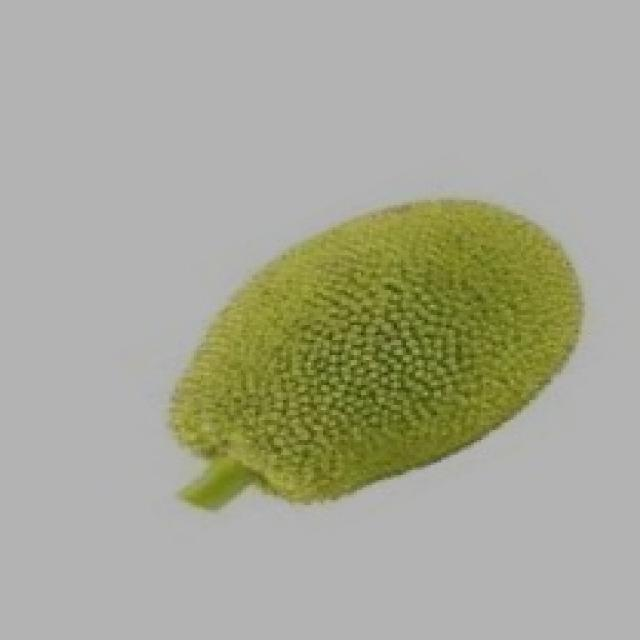Fruit: (191, 182, 609, 510)
